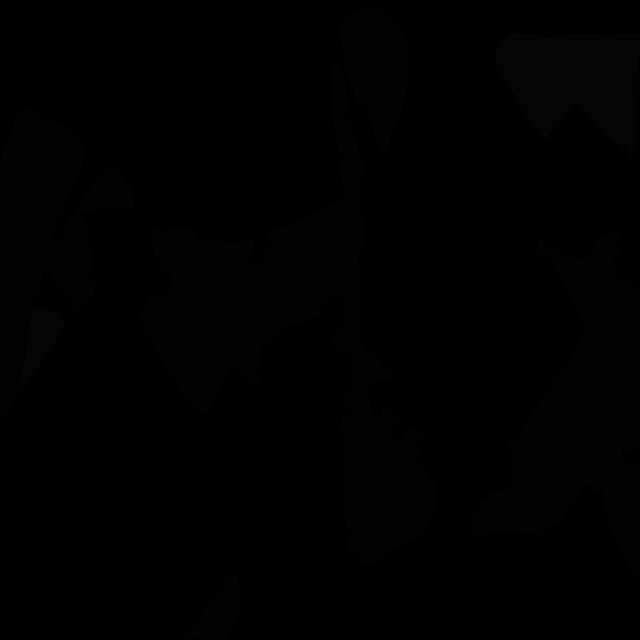cardboard: (471, 275, 640, 538), (331, 259, 438, 566), (0, 103, 84, 428), (264, 63, 366, 320), (134, 225, 257, 416), (203, 237, 308, 385), (44, 166, 136, 314), (338, 6, 409, 157), (536, 230, 634, 310), (179, 566, 242, 640), (603, 489, 640, 581), (608, 294, 639, 401), (620, 461, 640, 532)
soft_plastic: (496, 32, 640, 157), (16, 307, 67, 394)
